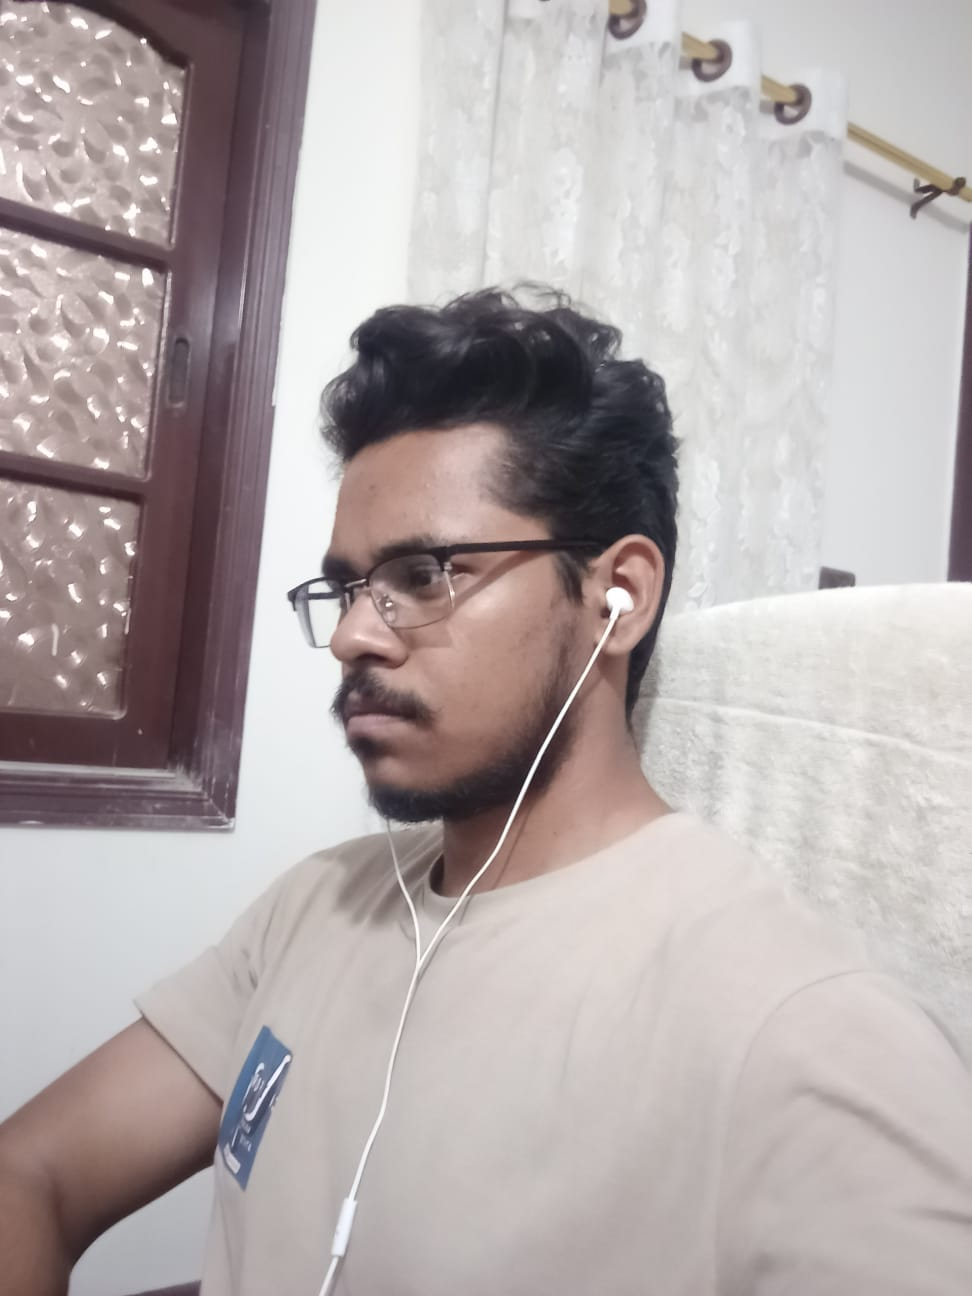NoMask: (332, 528, 530, 818)
